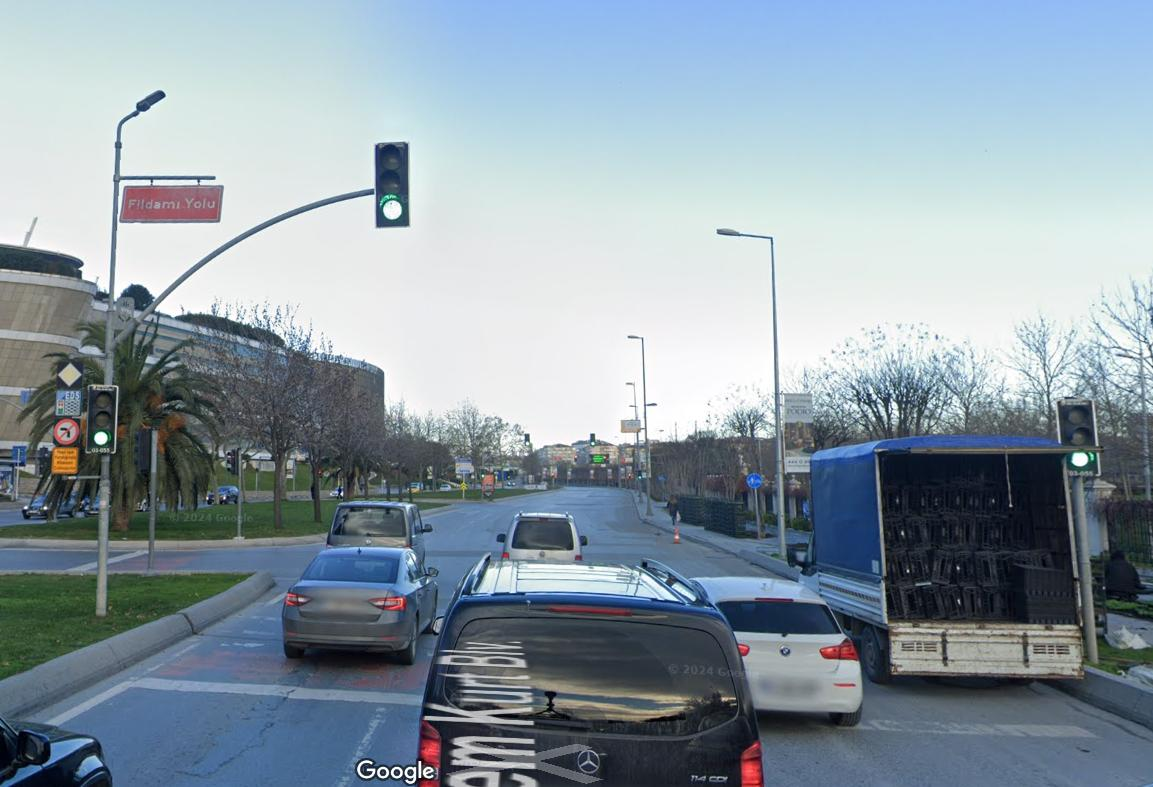greenlight: (1060, 396, 1100, 479), (376, 142, 411, 227), (87, 386, 116, 452), (524, 433, 530, 446), (589, 434, 595, 446), (481, 468, 485, 479), (638, 469, 642, 480)
leftturnsareforbidden: (52, 418, 80, 445)
redlight: (575, 454, 578, 463), (604, 454, 607, 462), (552, 472, 555, 479), (629, 472, 631, 480)
